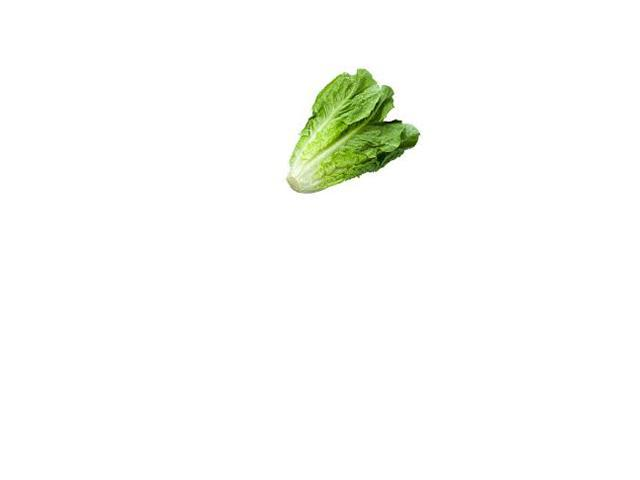lettuce: (268, 71, 427, 193)
